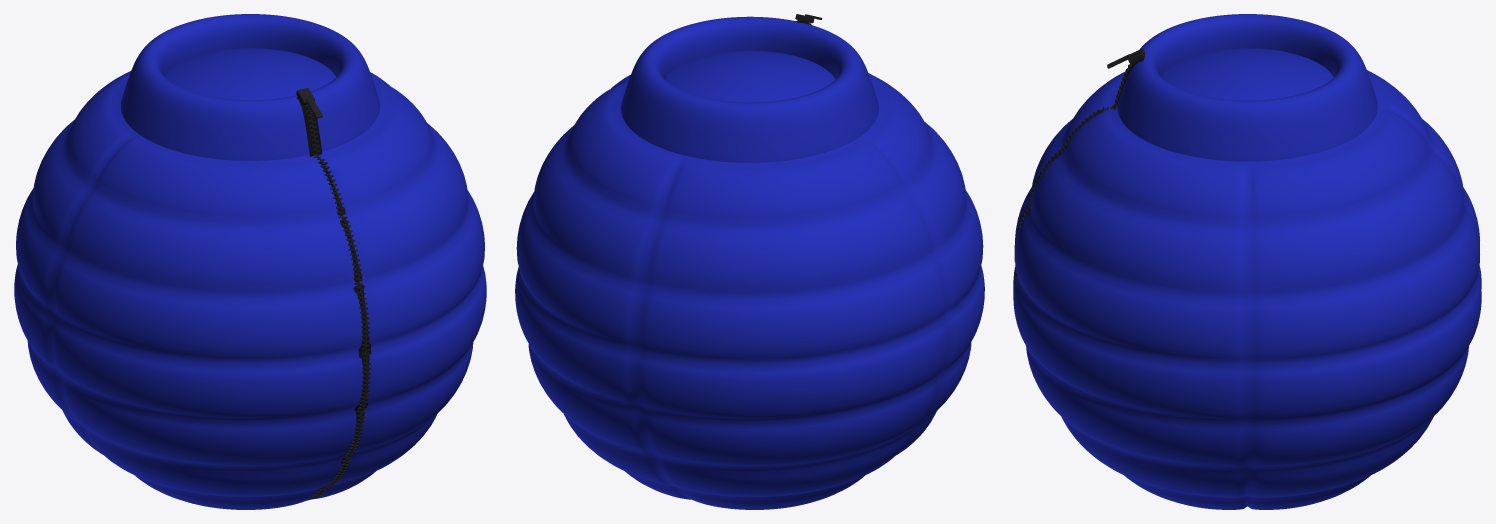
Rendered from puffer.glb.
The picture shows the model from 3 angles, left to right: view 1: azimuth 30°, elevation 25°; view 2: azimuth 150°, elevation 25°; view 3: azimuth 270°, elevation 25°; orthographic projection.
Parts seen in each view (by area): view 1: Puffer, Collar, ZipperTeeth, ZipperTape; view 2: Puffer, Collar; view 3: Puffer, Collar, ZipperTeeth.
Part boxes in pixels (x1=…): Puffer: x1=14, y1=48, x2=486, y2=509; Collar: x1=121, y1=14, x2=379, y2=160; ZipperTeeth: x1=304, y1=104, x2=370, y2=500; ZipperTape: x1=296, y1=97, x2=371, y2=488; Puffer: x1=515, y1=50, x2=984, y2=509; Collar: x1=621, y1=16, x2=878, y2=162; Puffer: x1=1013, y1=48, x2=1481, y2=509; Collar: x1=1117, y1=14, x2=1377, y2=161; ZipperTeeth: x1=1013, y1=58, x2=1143, y2=293.
Size of the model in its own units: 1.96 by 2.03 by 1.96.
